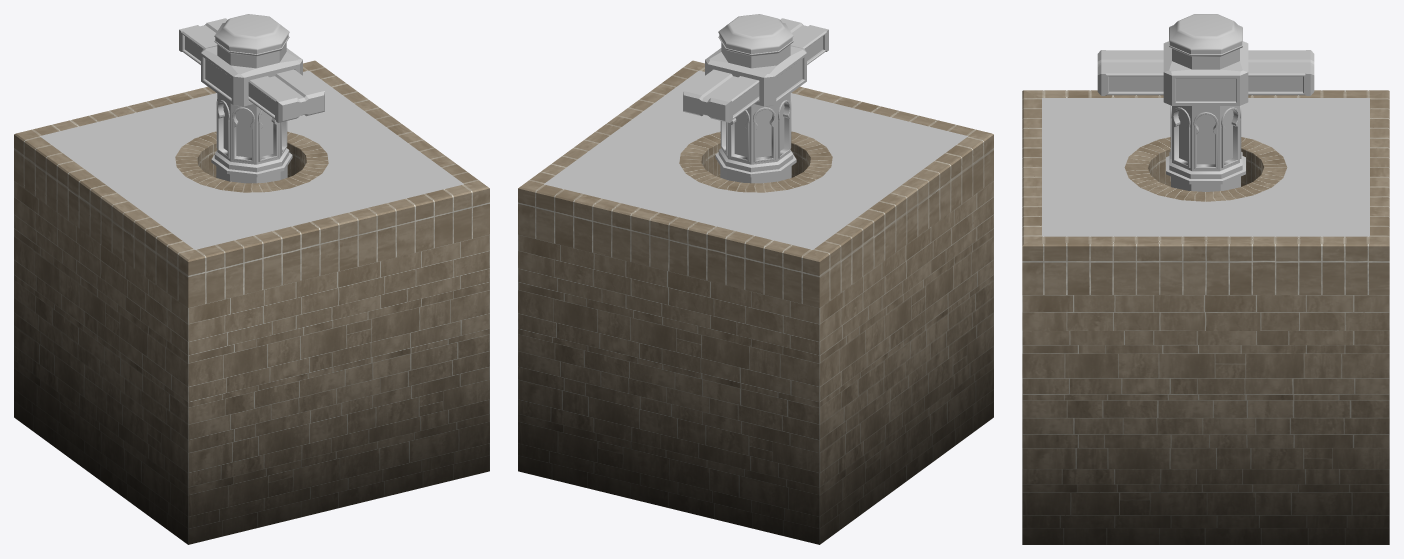
File: PlatformHazard1Arm.fbx
3 renders of one model, left to right at view 1: azimuth 30°, elevation 25°; view 2: azimuth 150°, elevation 25°; view 3: azimuth 270°, elevation 25°, orthographic. The views are drawn at different scales.
Visible parts, largest first — view 1: PlatformHazard1Arm_Floor, MainColumn, Arm; view 2: PlatformHazard1Arm_Floor, MainColumn, Arm; view 3: PlatformHazard1Arm_Floor, MainColumn, Arm.
Part boxes in pixels (left/top/right/bottom): PlatformHazard1Arm_Floor: left=14, top=60, right=489, bottom=544; MainColumn: left=201, top=14, right=302, bottom=183; Arm: left=179, top=18, right=324, bottom=122; PlatformHazard1Arm_Floor: left=518, top=60, right=993, bottom=544; MainColumn: left=705, top=14, right=806, bottom=183; Arm: left=683, top=18, right=828, bottom=122; PlatformHazard1Arm_Floor: left=1022, top=90, right=1389, bottom=544; MainColumn: left=1163, top=14, right=1248, bottom=191; Arm: left=1097, top=50, right=1314, bottom=95.
Bounding box in the file's own units: 500 × 664 × 500.
